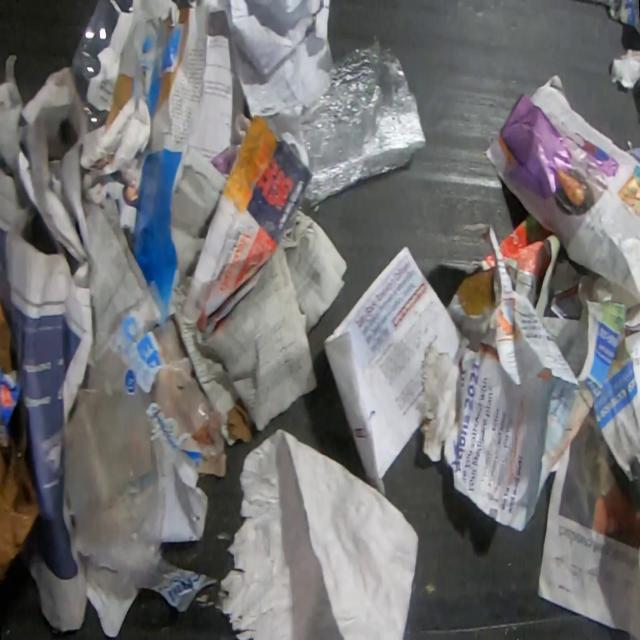cardboard: (0, 296, 41, 586)
rigid_plastic: (72, 0, 120, 136)
soft_plastic: (62, 280, 226, 639), (297, 44, 427, 204)
